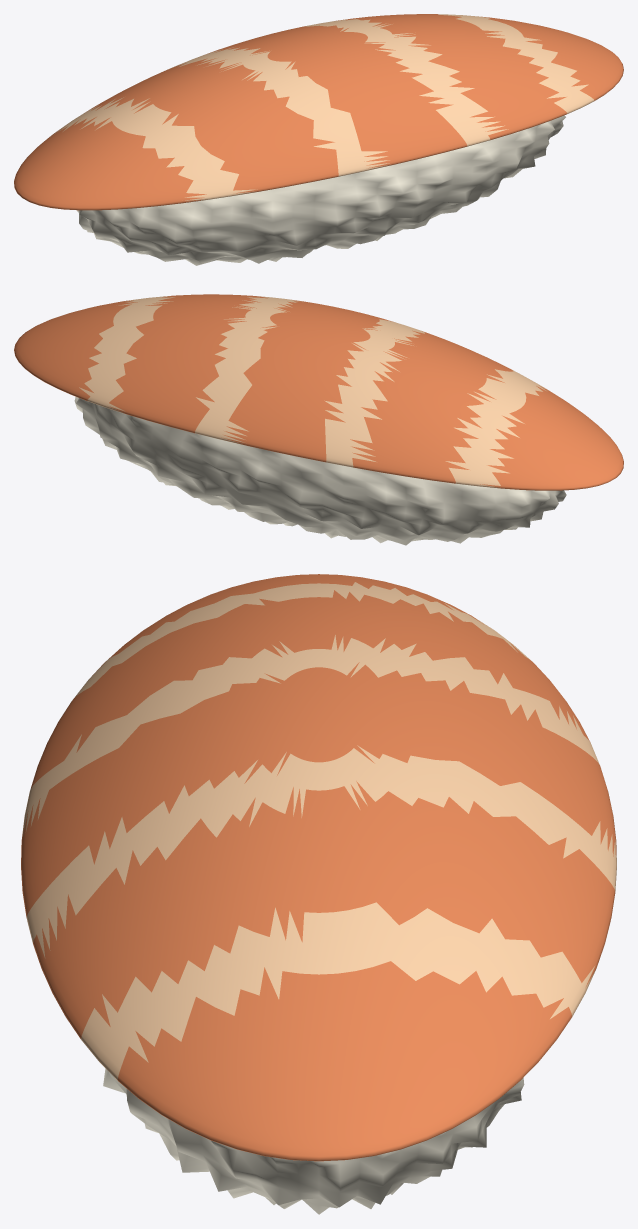
The picture shows the model from 3 angles, top to bottom: view 1: azimuth 30°, elevation 25°; view 2: azimuth 150°, elevation 25°; view 3: azimuth 270°, elevation 25°; orthographic projection. The views are drawn at different scales.
Visible parts, largest first — view 1: NEW320_fish, NEW320_rice; view 2: NEW320_fish, NEW320_rice; view 3: NEW320_fish, NEW320_rice.
Part boxes in pixels (x1,y1,x2,y2): NEW320_fish: [14, 14, 623, 210]; NEW320_rice: [77, 115, 565, 265]; NEW320_fish: [14, 294, 623, 490]; NEW320_rice: [74, 397, 566, 545]; NEW320_fish: [21, 574, 616, 1161]; NEW320_rice: [103, 1068, 524, 1214].
Bounding box in the file's own units: 0.068 × 0.0212 × 0.0297.
